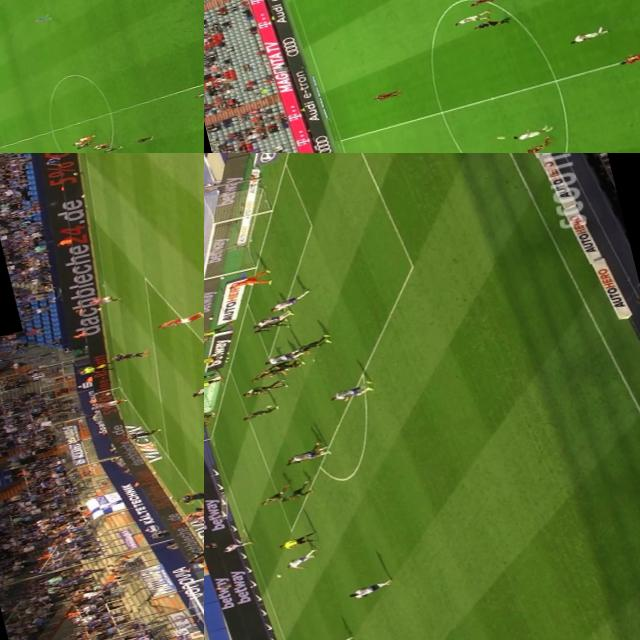ball: (492, 130, 509, 142), (271, 570, 284, 580)
player: (326, 377, 381, 404), (345, 574, 397, 600), (153, 306, 204, 331), (228, 266, 276, 290), (266, 288, 312, 312), (290, 331, 334, 355), (283, 440, 326, 464), (277, 478, 316, 502), (244, 362, 286, 383), (286, 442, 330, 462), (514, 120, 554, 141), (283, 547, 321, 569), (258, 483, 294, 505), (239, 402, 280, 421), (261, 346, 302, 365), (244, 378, 287, 396), (249, 310, 291, 328), (238, 379, 280, 396), (567, 25, 606, 43), (85, 290, 123, 308), (260, 355, 297, 373), (90, 394, 129, 411), (518, 136, 556, 153), (454, 8, 489, 26), (268, 358, 303, 376), (250, 316, 287, 332), (110, 346, 146, 362), (124, 424, 159, 440), (175, 486, 204, 505), (221, 535, 251, 553), (616, 42, 640, 64), (178, 505, 204, 523), (187, 374, 204, 399), (185, 541, 204, 562), (372, 87, 401, 100), (192, 489, 204, 512), (30, 12, 51, 24), (311, 635, 357, 640), (469, 0, 506, 6), (132, 134, 154, 144), (101, 143, 122, 153), (192, 508, 204, 524), (70, 138, 88, 146), (92, 143, 109, 151), (192, 88, 204, 99), (90, 142, 106, 150), (74, 140, 90, 148), (77, 133, 93, 141)
